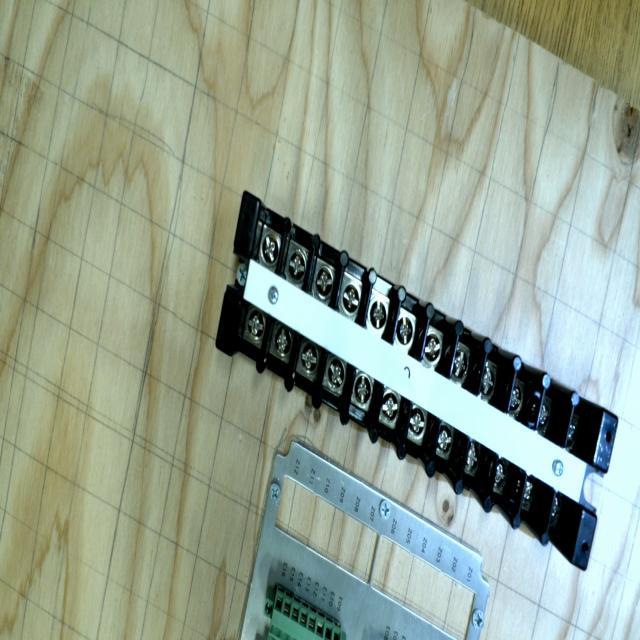Phillips_Block: (168, 192, 640, 570)
